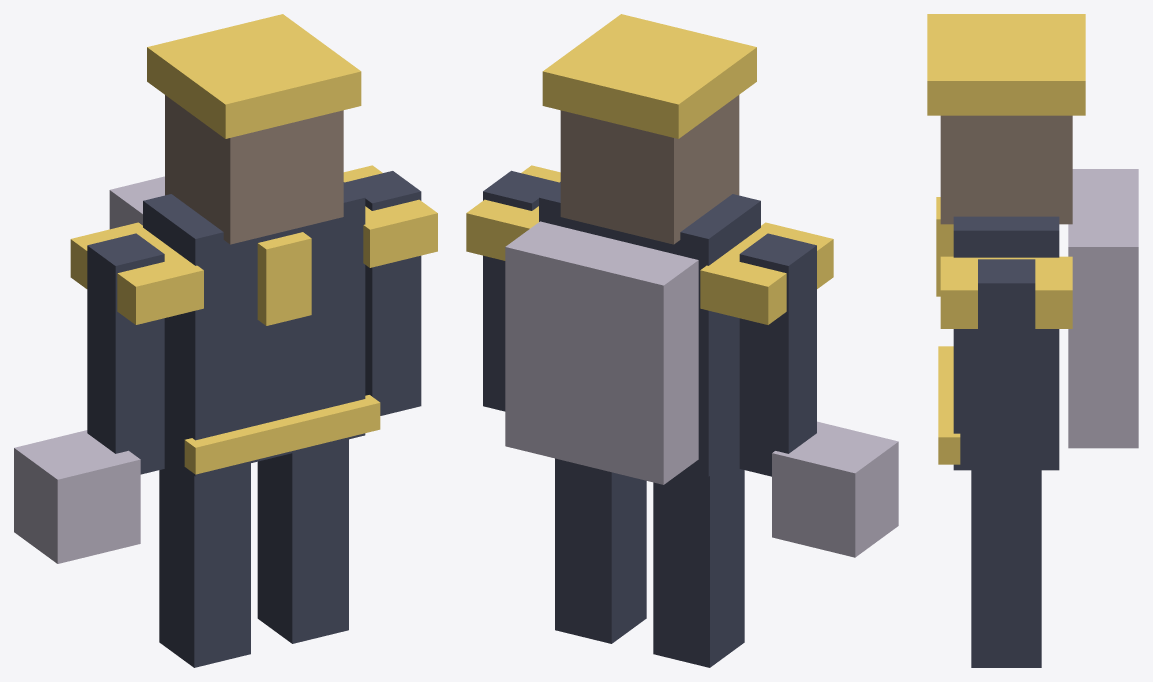
Rendered from 15_calder_nullborne_ranger_at_transit.glb.
3 renders of one model, left to right at view 1: azimuth 30°, elevation 25°; view 2: azimuth 150°, elevation 25°; view 3: azimuth 270°, elevation 25°, orthographic.
Parts seen in each view (by area): view 1: Calder Nullborne, Ranger at Transit; view 2: Calder Nullborne, Ranger at Transit; view 3: Calder Nullborne, Ranger at Transit.
Part boxes in pixels (box(x1,y1,x2,y2)): Calder Nullborne, Ranger at Transit: box(14, 14, 437, 667); Calder Nullborne, Ranger at Transit: box(466, 14, 898, 667); Calder Nullborne, Ranger at Transit: box(927, 14, 1138, 667).
Bounding box in the file's own units: 1.01 × 1.48 × 0.4852.
